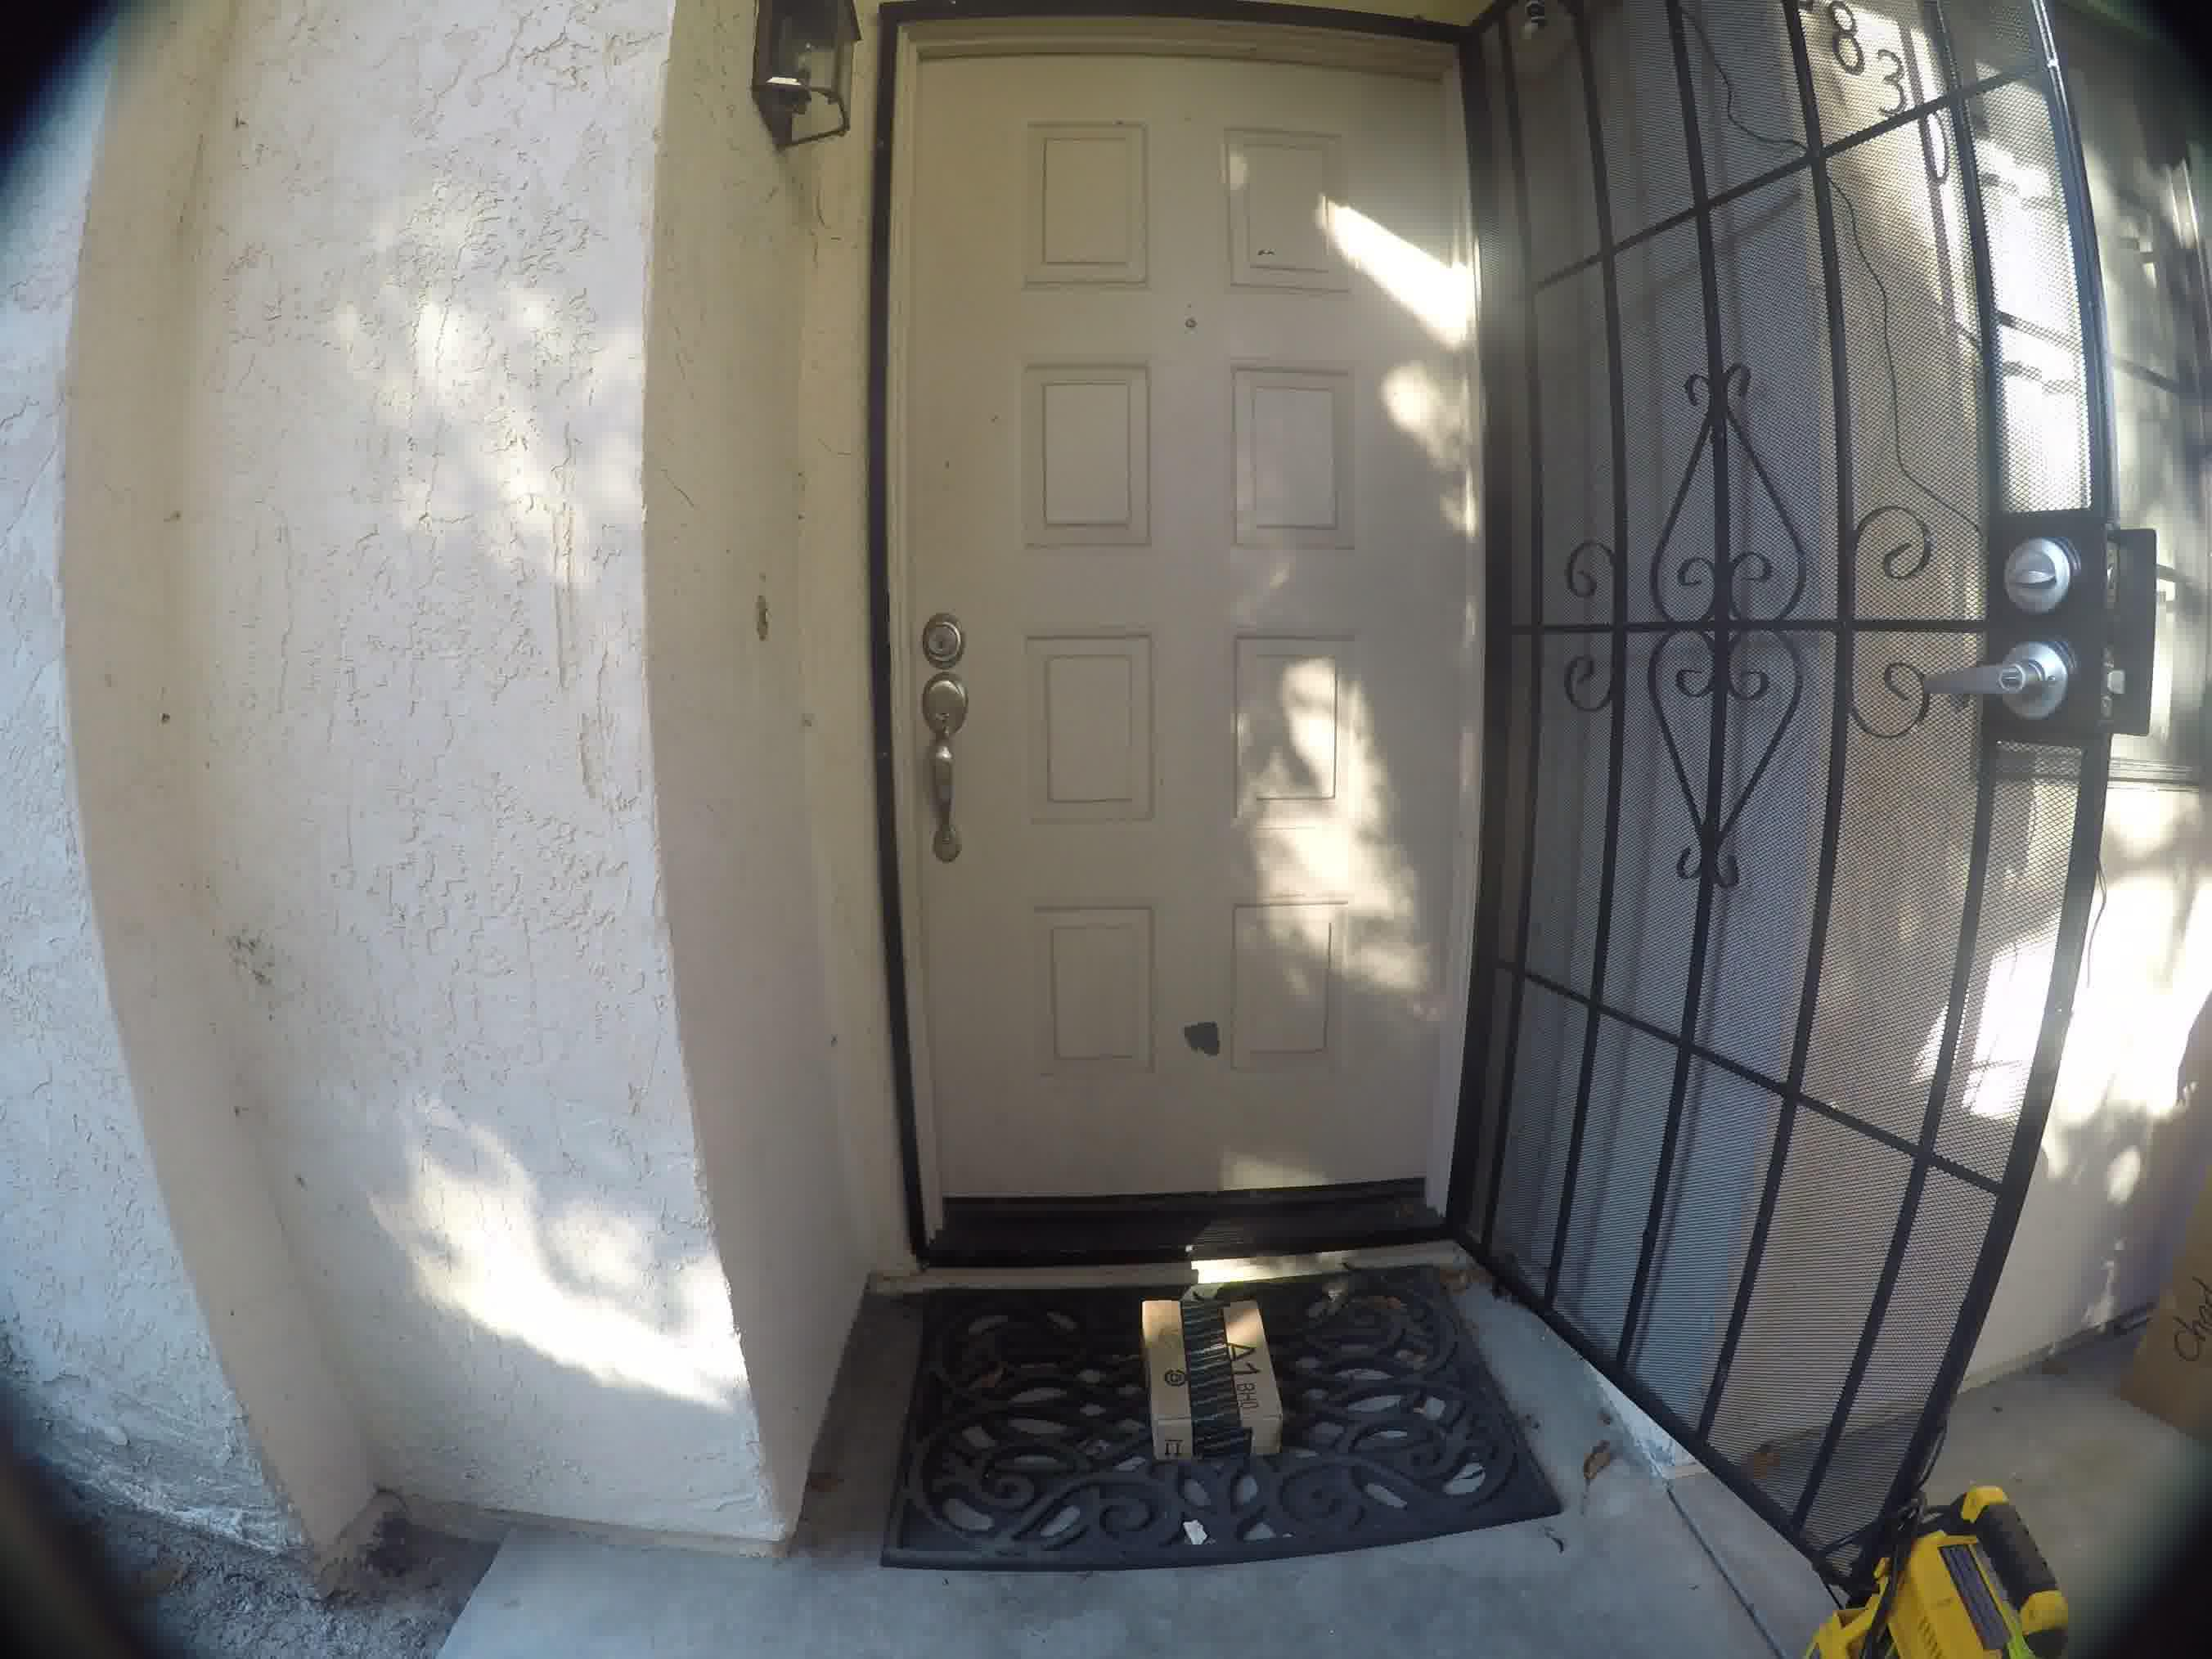box: (1122, 1270, 1308, 1460)
